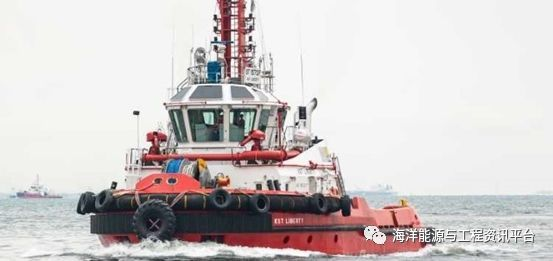otherboat: (65, 5, 432, 259), (13, 173, 66, 200)
